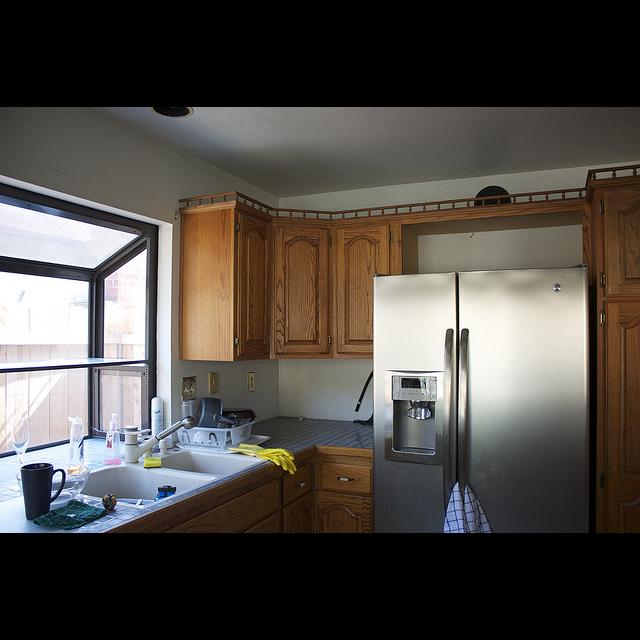Refrigerator: (372, 269, 591, 533)
